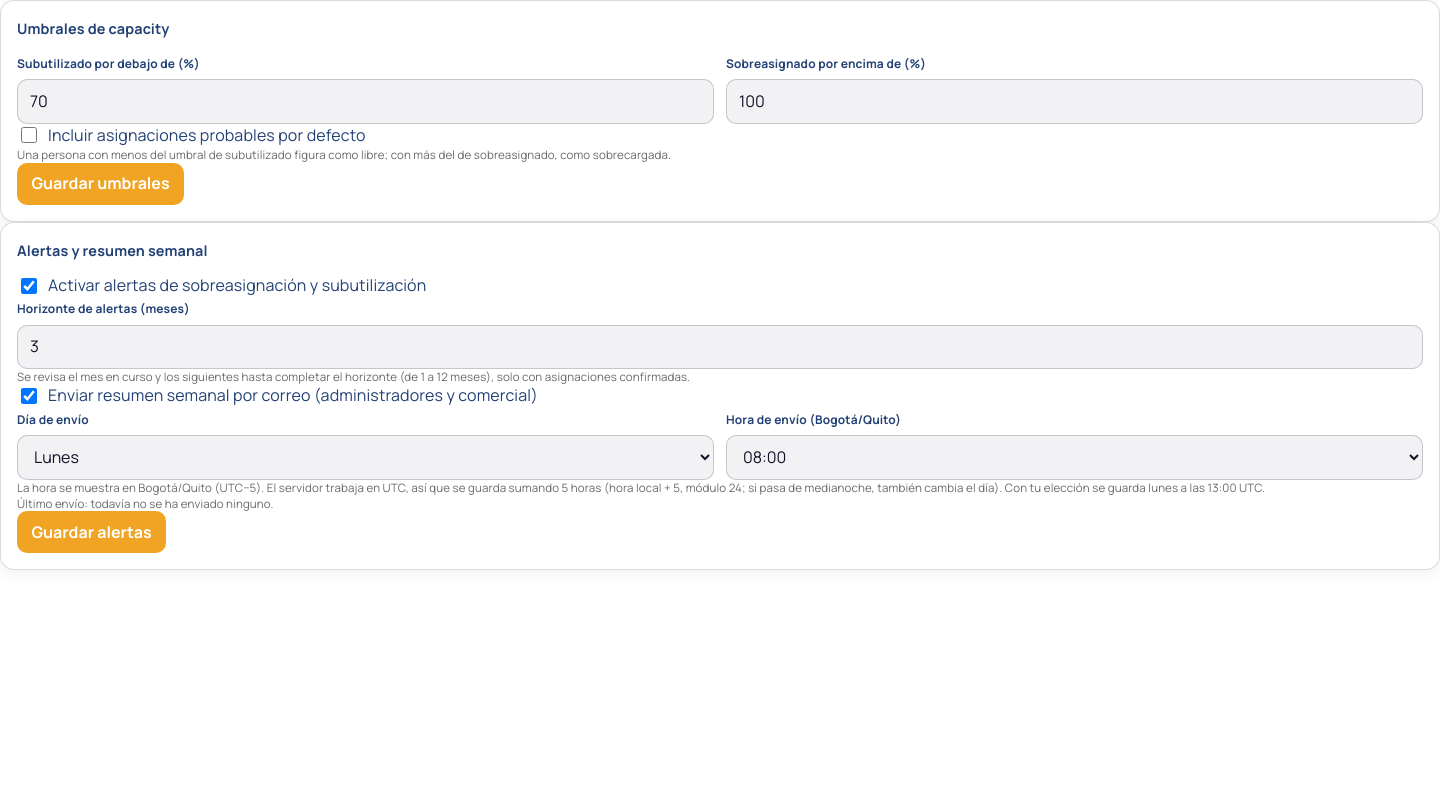
Test case: CapacityThresholdsSection › no guarda si under >= over y muestra el error
Replace the text in the number field labelled "Subutilizado por debajo de (%)" with "120" at [366, 102], box left=17, top=79, right=714, bottom=124
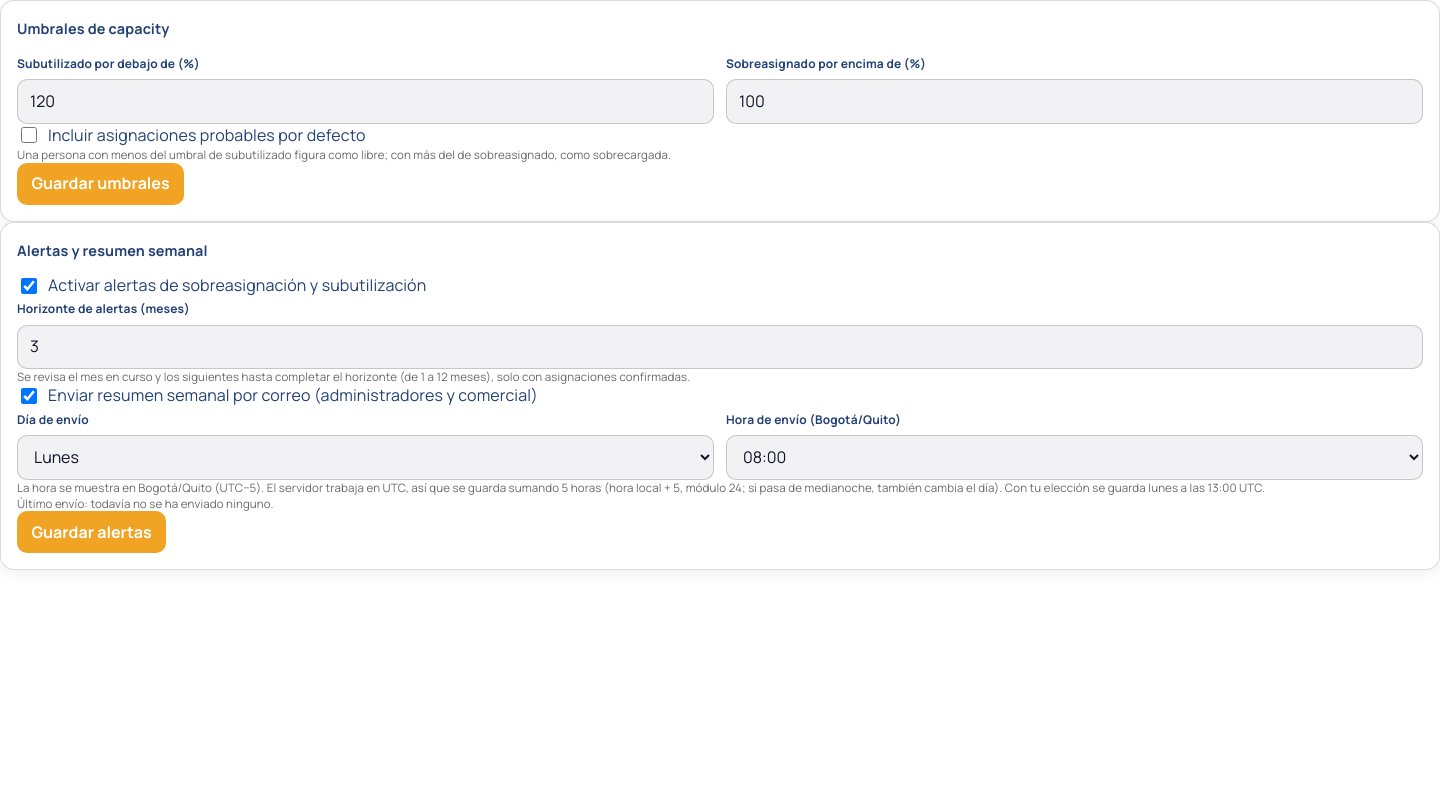
Click the button "Guardar umbrales" at [100, 184], box left=17, top=162, right=184, bottom=205
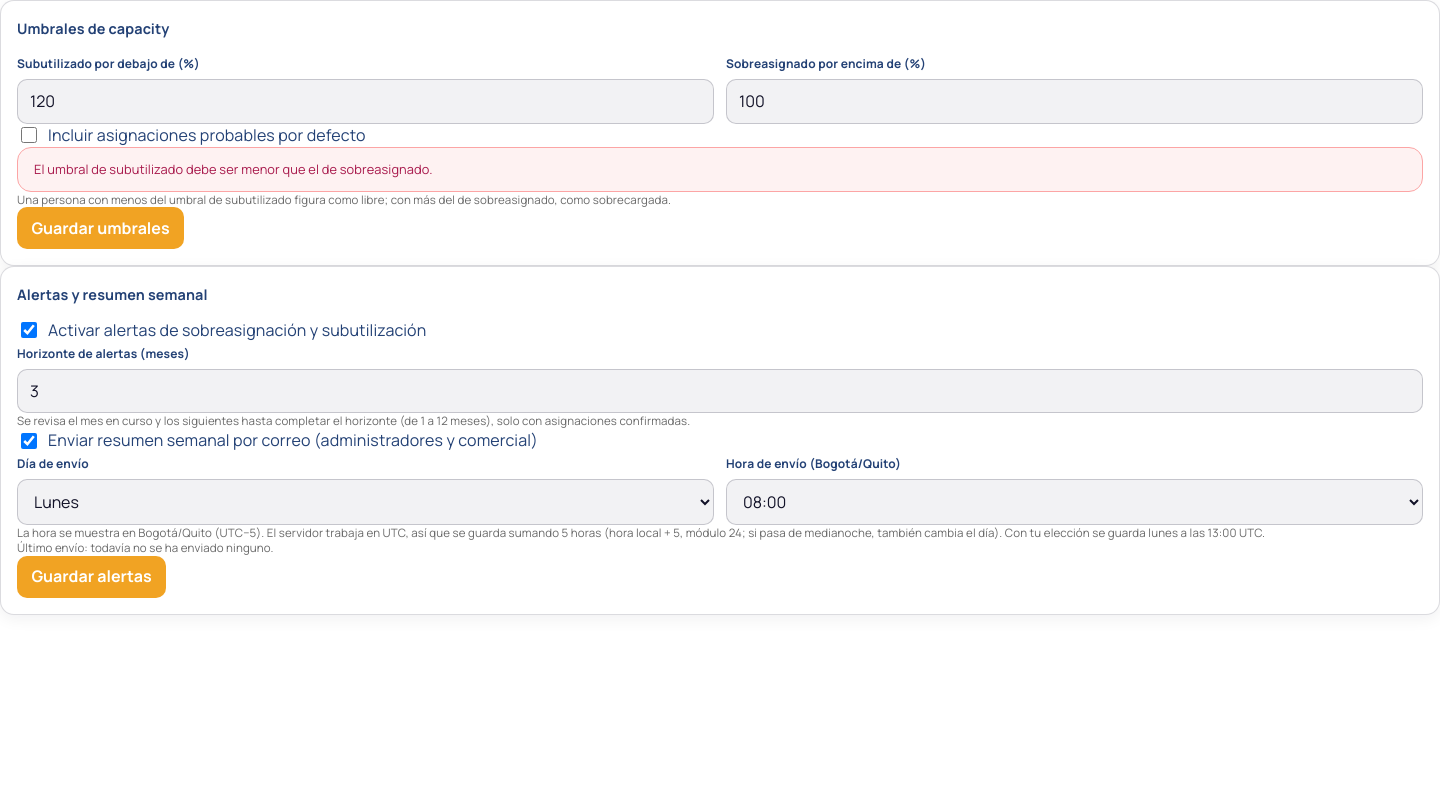
Check: the message shows "menor que el de sobreasignado", box left=34, top=160, right=433, bottom=178
